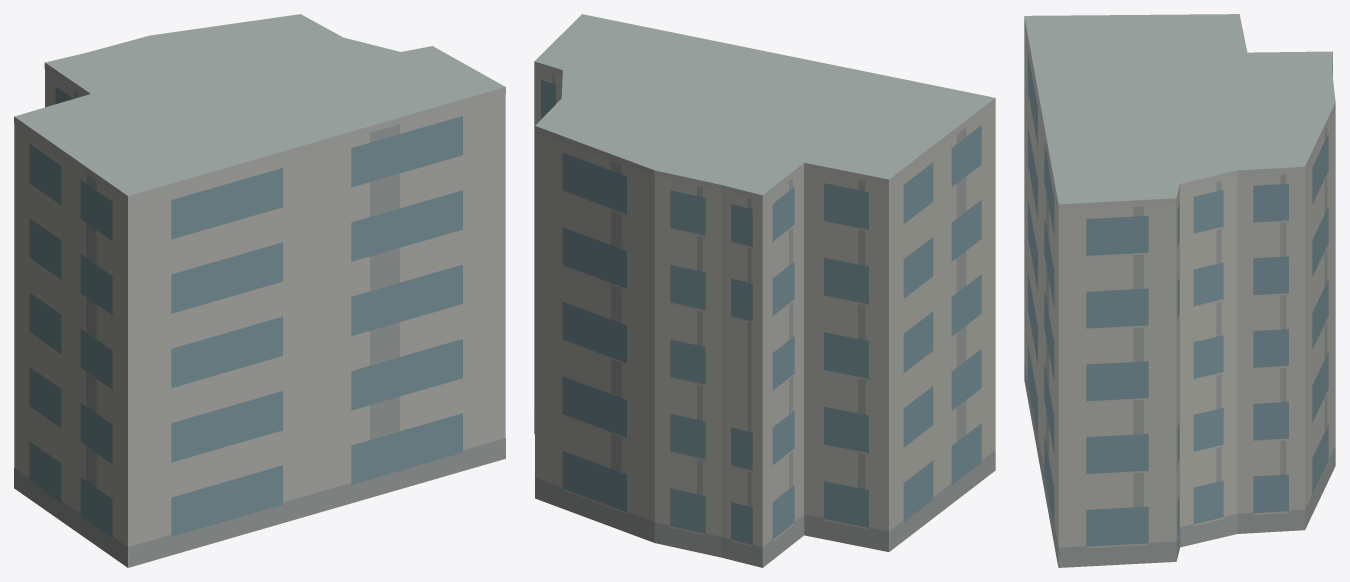
File: survey-upis-32973562.glb
3 renders of one model, left to right at view 1: azimuth 30°, elevation 25°; view 2: azimuth 150°, elevation 25°; view 3: azimuth 270°, elevation 25°, orthographic. The views are drawn at different scales.
Visible parts, largest first — view 1: survey-upis-32973562.tmp; view 2: survey-upis-32973562.tmp; view 3: survey-upis-32973562.tmp.
Part boxes in pixels (x1,y1,x2,y2): survey-upis-32973562.tmp: (14, 14, 505, 567); survey-upis-32973562.tmp: (534, 14, 995, 567); survey-upis-32973562.tmp: (1024, 14, 1335, 567).
Size of the model in its own units: 15.29 by 13.6 by 10.57.
